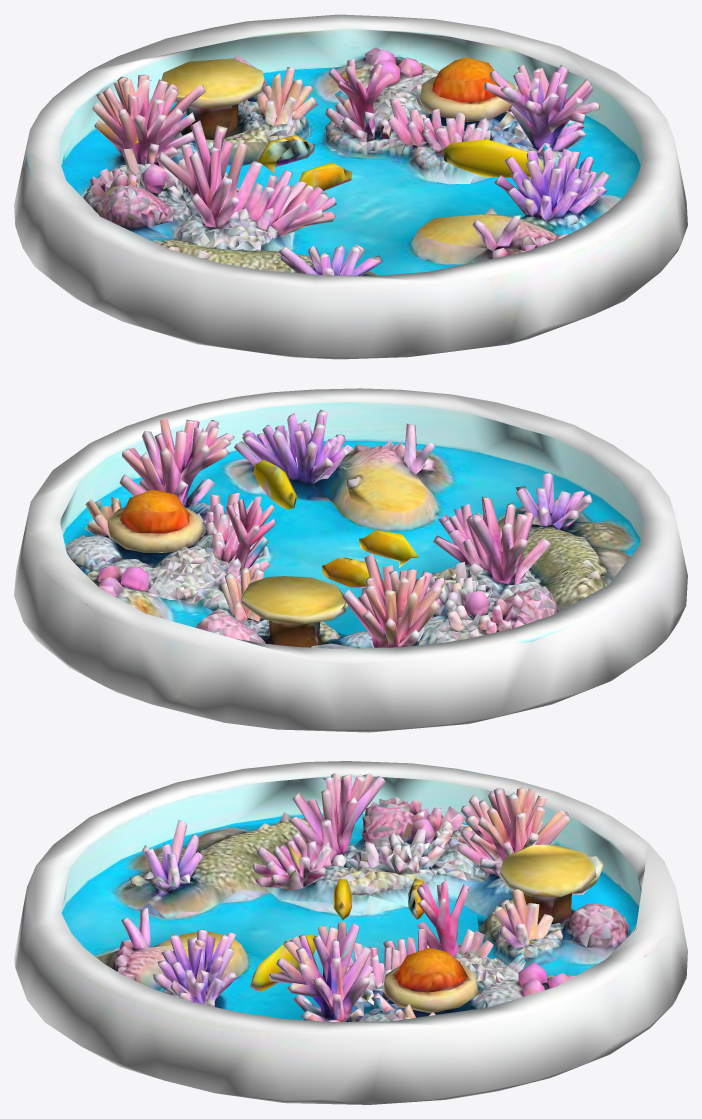
File: reef.glb
3 views of the same model, one above another, from view 1: azimuth 30°, elevation 25°; view 2: azimuth 150°, elevation 25°; view 3: azimuth 270°, elevation 25° (orthographic).
Parts seen in each view (by area): view 1: mesh; view 2: mesh; view 3: mesh.
Part boxes in pixels (bbox=[...]): mesh: bbox=[14, 14, 687, 359]; mesh: bbox=[14, 388, 687, 732]; mesh: bbox=[14, 761, 687, 1104].
Bounding box in the file's own units: 1 × 0.205 × 0.9989.
Materials: 1 (1 with a texture image).
